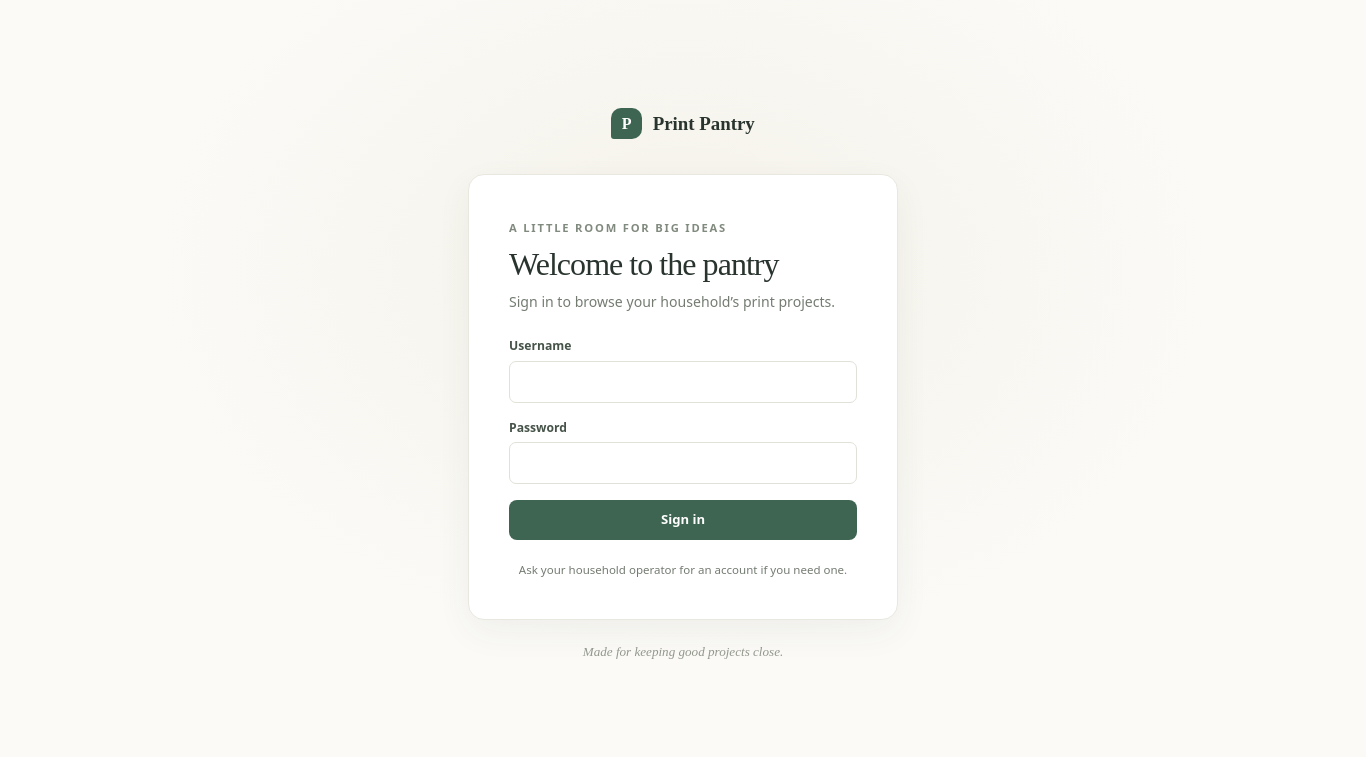
Test: lets household members open Add New Print and navigate to Imports
This screenshot has width=1366, height=757.
Expected: the heading "Welcome to the pantry" is shown, [509,246,779,282]
Type "maker" into the field labelled "Username".
click(683, 382); type("maker")  # box [509,361,857,403]
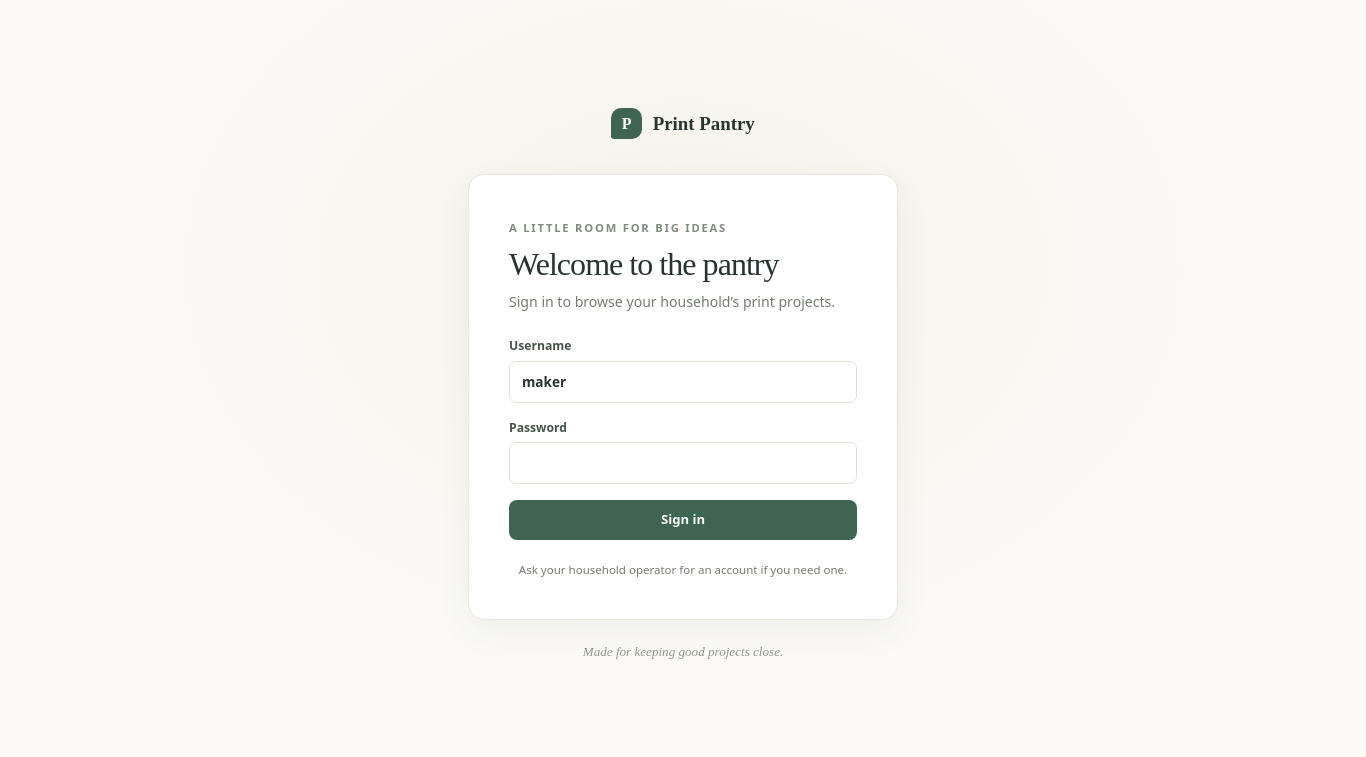
Type "pantry-pass" into the password field labelled "Password".
click(683, 463); type("pantry-pass")  # box [509,442,857,484]
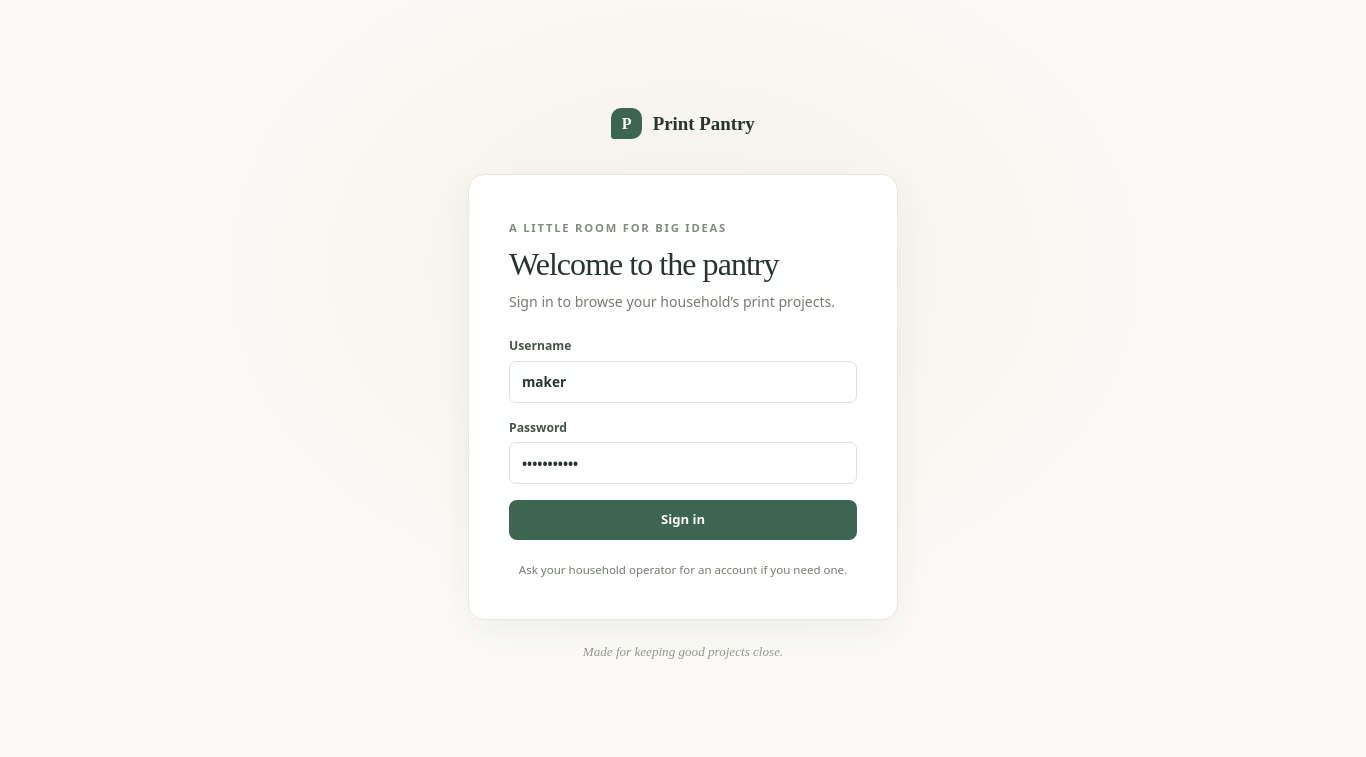
Click the button "Sign in".
click(683, 520)  # box [509,500,857,540]
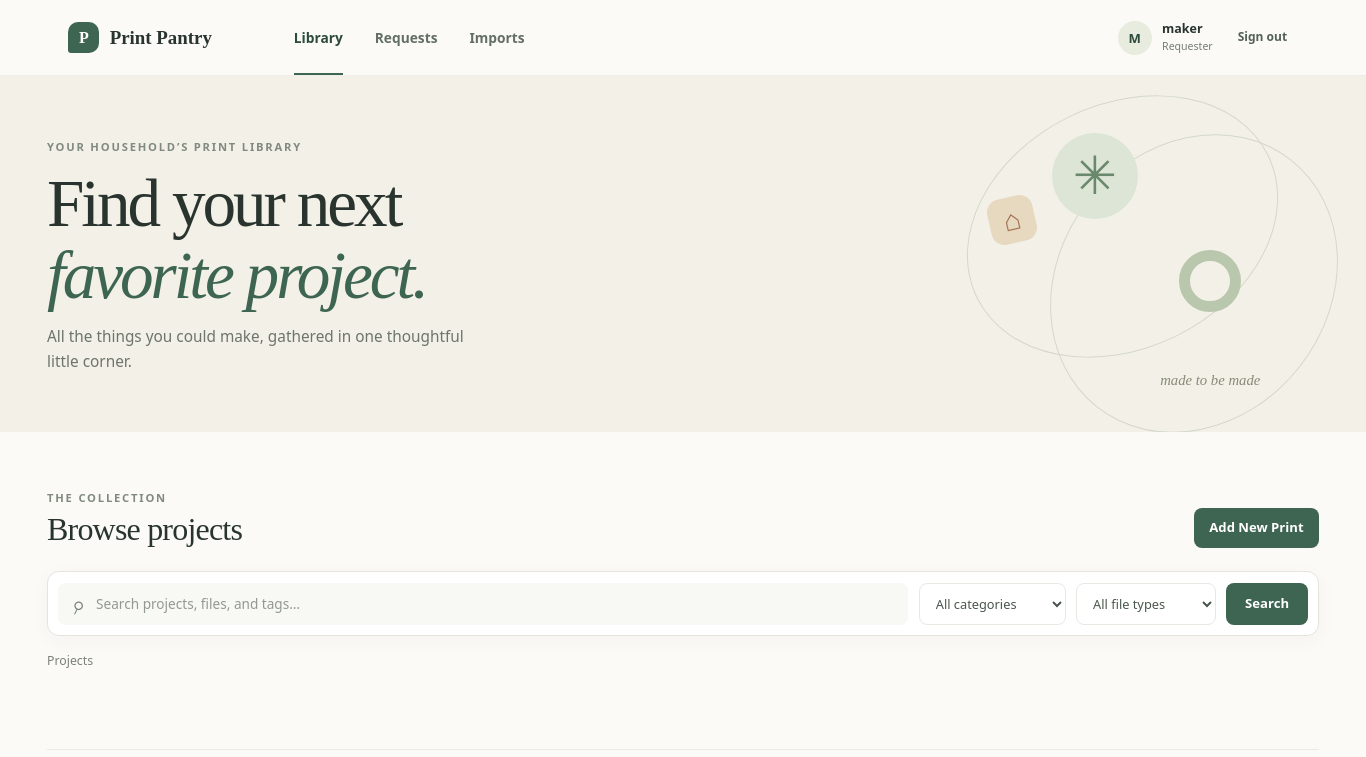
Expected: the heading "Browse projects" is shown, [47,511,242,548]
Click the link "Add New Print".
click(1256, 528)  # box [1194,508,1319,548]
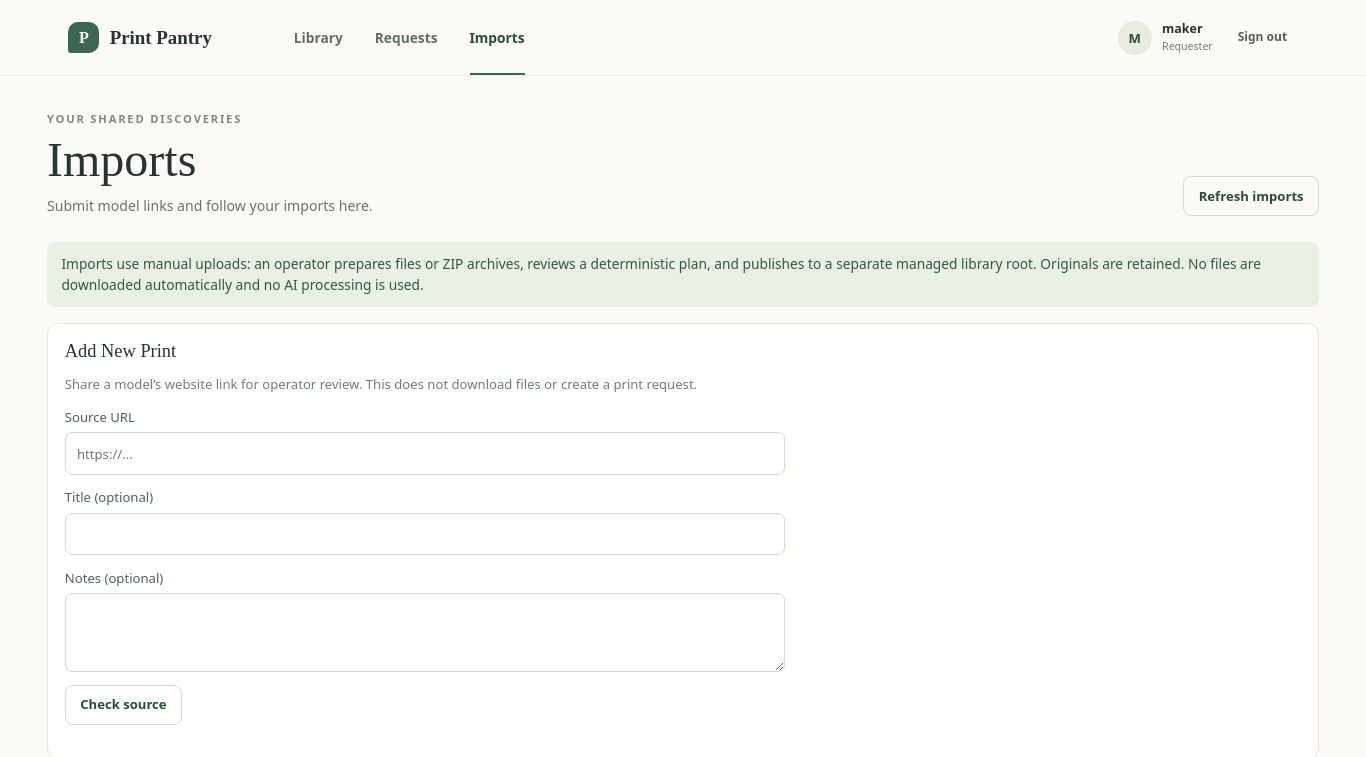
Expected: the field labelled "Source URL" is shown, [65,432,785,475]
Expected: the heading "Imports" is shown, [47,134,196,186]
Click the link "Library".
click(318, 38)  # box [294,28,343,47]
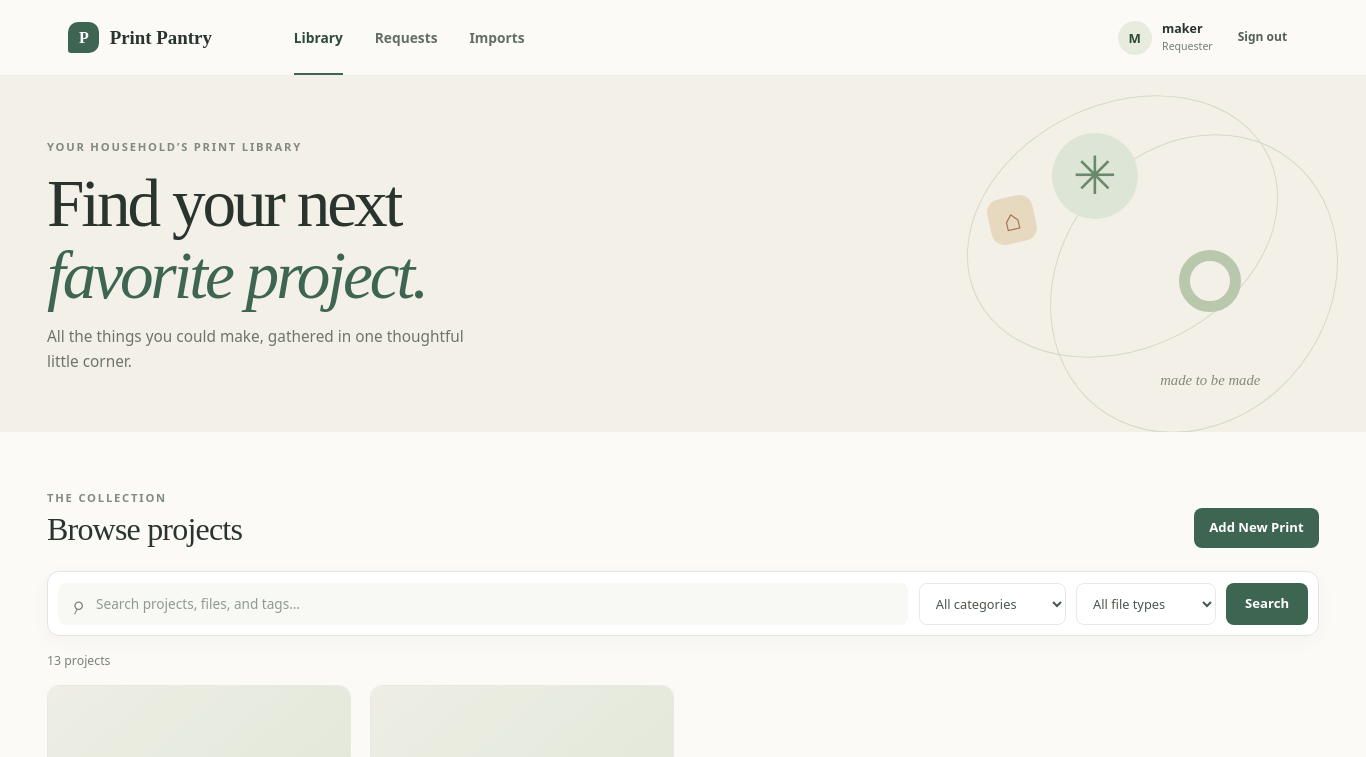
Expected: the heading "Browse projects" is shown, [47,511,242,548]
Click the link "Imports".
click(497, 38)  # box [470,28,525,47]
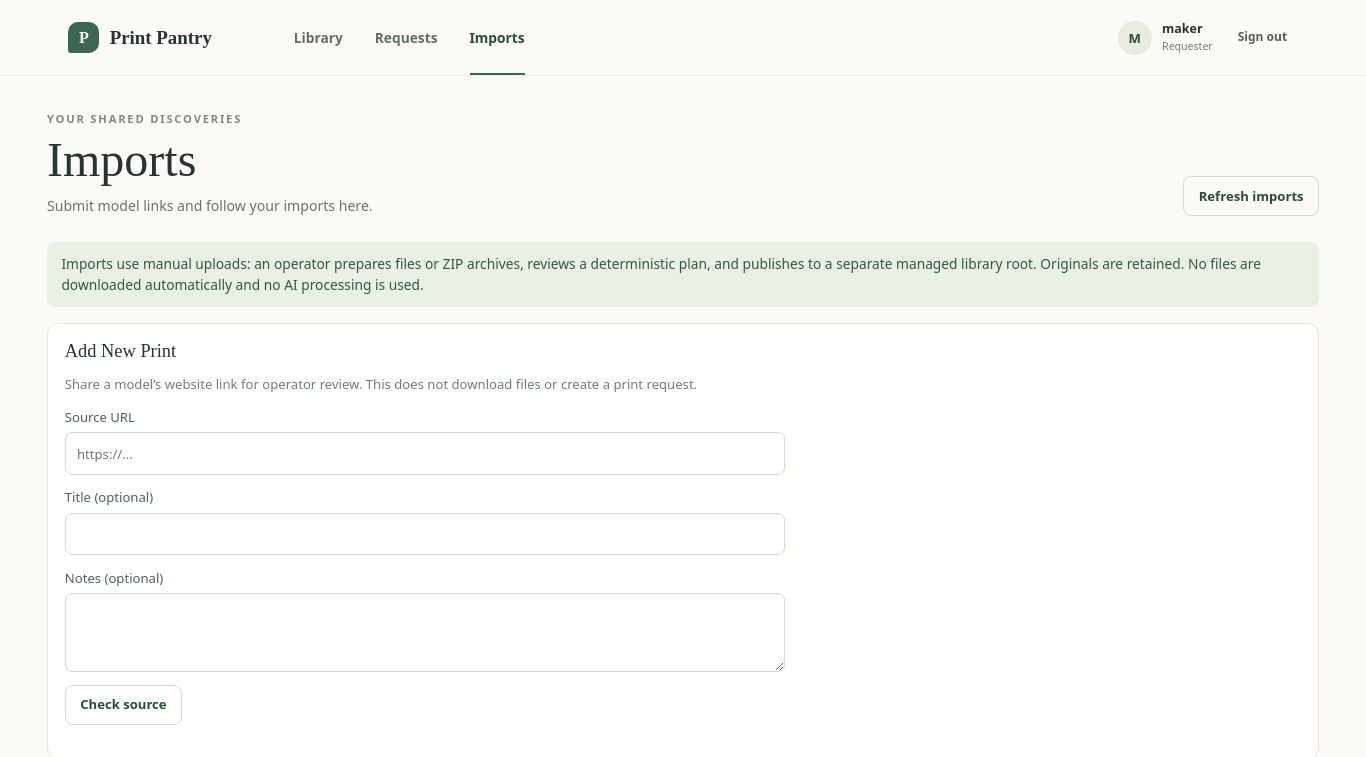
Expected: the heading "Imports" is shown, [47,134,196,186]
